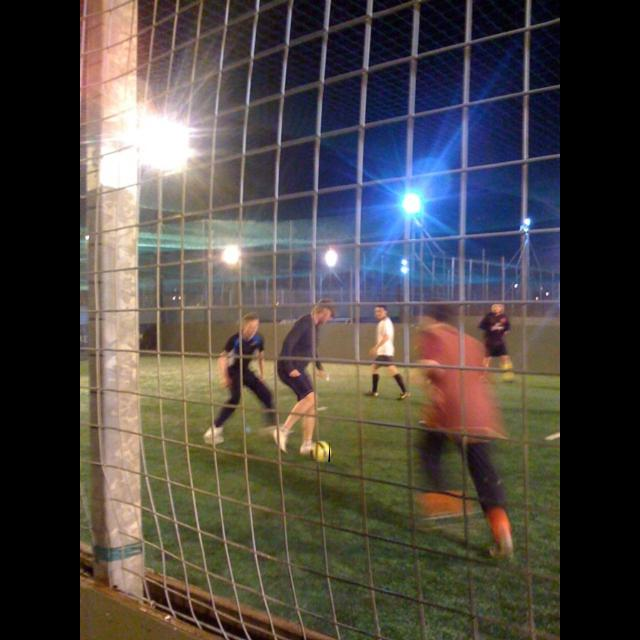Football: (310, 440, 330, 462)
